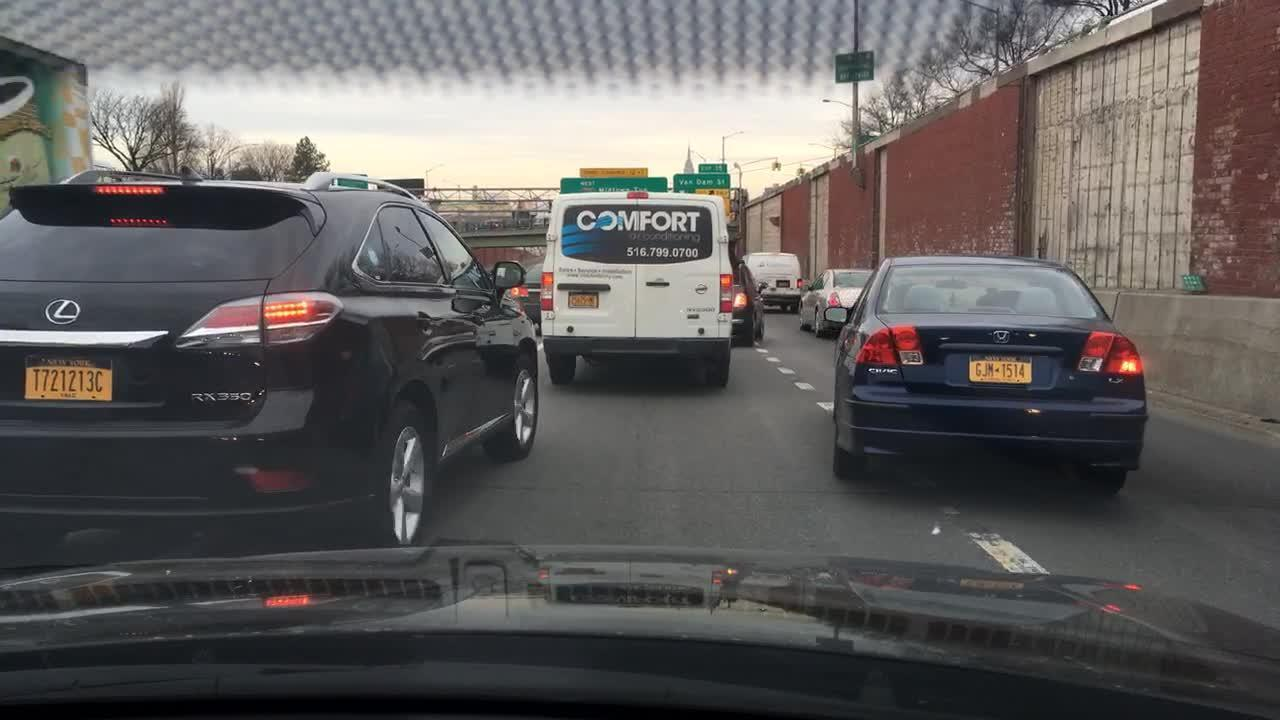lexus: (39, 290, 87, 333)
